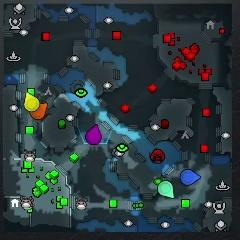p1: (180, 169, 201, 186)
p2: (157, 180, 174, 199)
p3: (85, 123, 102, 145)
p4: (24, 92, 39, 111)
p5: (30, 103, 48, 120)
